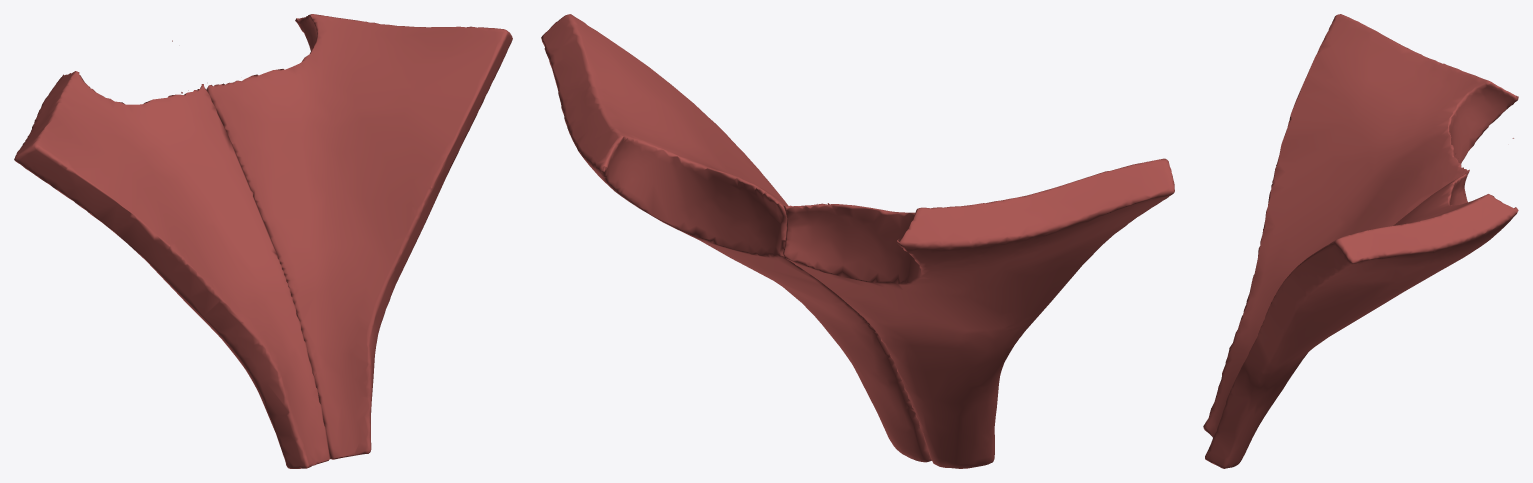
The model's file is FMA62327.glb.
The picture shows the model from 3 angles, left to right: view 1: azimuth 30°, elevation 25°; view 2: azimuth 150°, elevation 25°; view 3: azimuth 270°, elevation 25°; orthographic projection. The views are drawn at different scales.
Visible parts, largest first — view 1: FMA62327; view 2: FMA62327; view 3: FMA62327.
Part boxes in pixels (box(x1,y1,x2,y2)): FMA62327: box(14, 14, 512, 468); FMA62327: box(541, 14, 1174, 468); FMA62327: box(1203, 14, 1518, 468).
Size of the model in its own units: 0.0162 by 0.0104 by 0.00904.
